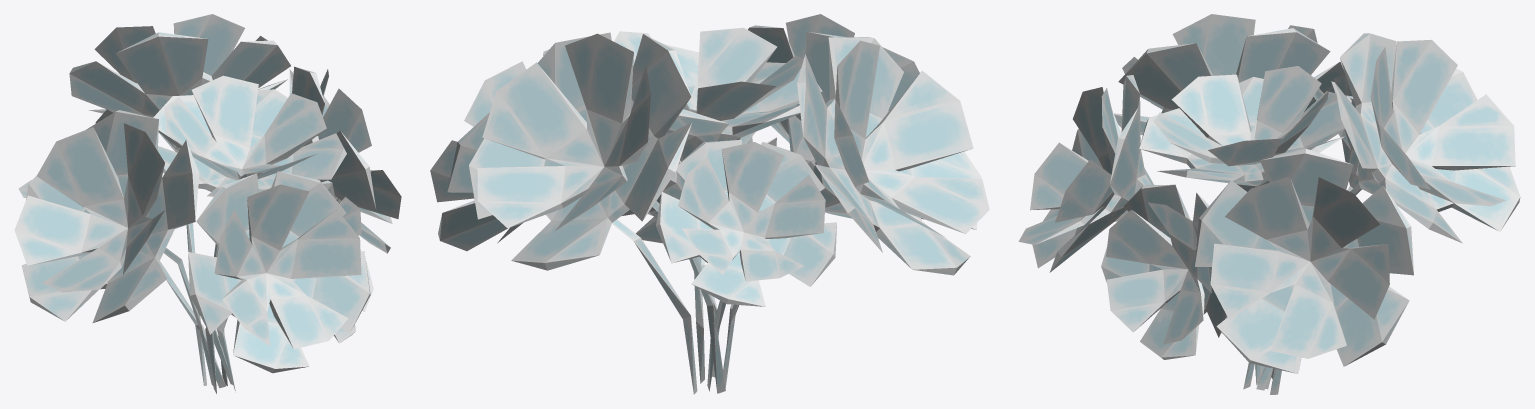
The model's file is flores cristal.FBX.
3 views of the same model, side by side, from view 1: azimuth 30°, elevation 25°; view 2: azimuth 150°, elevation 25°; view 3: azimuth 270°, elevation 25° (orthographic). The views are drawn at different scales.
Parts seen in each view (by area): view 1: ramo diezmadas; view 2: ramo diezmadas; view 3: ramo diezmadas.
Part boxes in pixels (x1,y1,x2,y2): ramo diezmadas: (14, 14, 401, 393); ramo diezmadas: (430, 14, 989, 394); ramo diezmadas: (1018, 14, 1520, 394).
Size of the model in its own units: 876 by 710 by 916.
